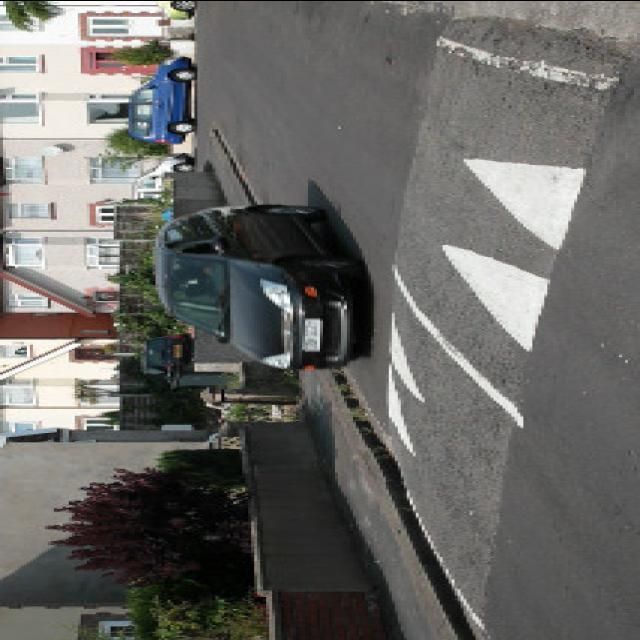speedbreaker: (368, 34, 566, 548)
